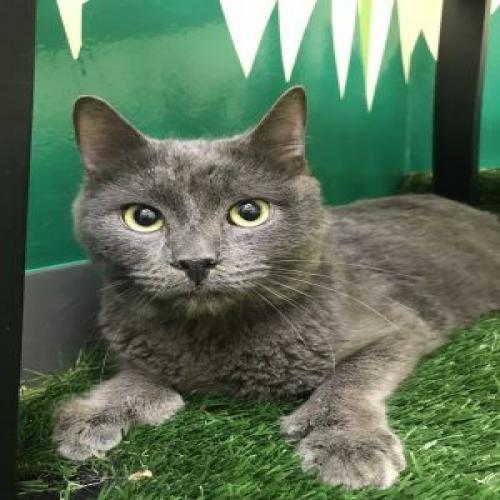rblue: (65, 78, 345, 331)
